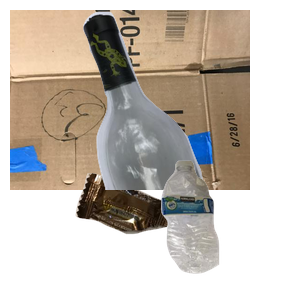cardboard: (10, 10, 250, 190)
glass: (81, 10, 300, 190)
plastic: (159, 158, 300, 300)
trash: (73, 171, 242, 300)
